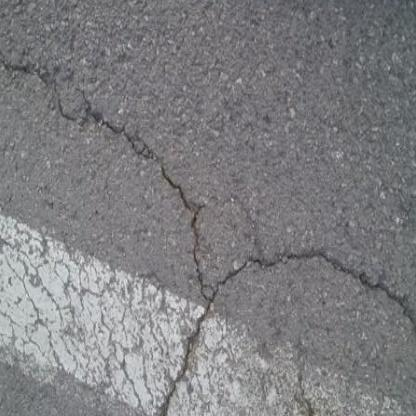Cracks: (0, 30, 229, 304), (194, 243, 416, 389), (155, 243, 231, 416)
